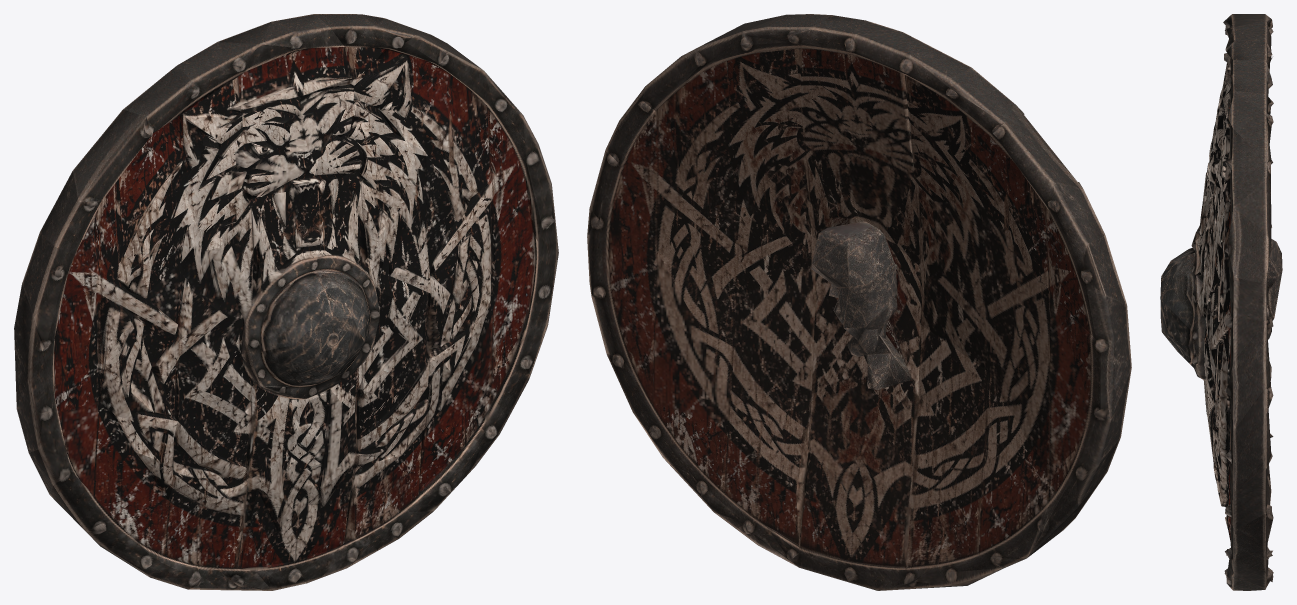
File: viking-berserker.glb
The picture shows the model from 3 angles, left to right: view 1: azimuth 30°, elevation 25°; view 2: azimuth 150°, elevation 25°; view 3: azimuth 270°, elevation 25°; orthographic projection. The views are drawn at different scales.
Visible parts, largest first — view 1: Mesh_0; view 2: Mesh_0; view 3: Mesh_0.
Boxes of the visible parts, x1,y1,x2,y2 form: Mesh_0: (14,14,558,590); Mesh_0: (587,14,1131,590); Mesh_0: (1160,14,1282,590).
Size of the model in its own units: 0.8994 by 0.9 by 0.1902.
Materials: 1 (1 with a texture image).
